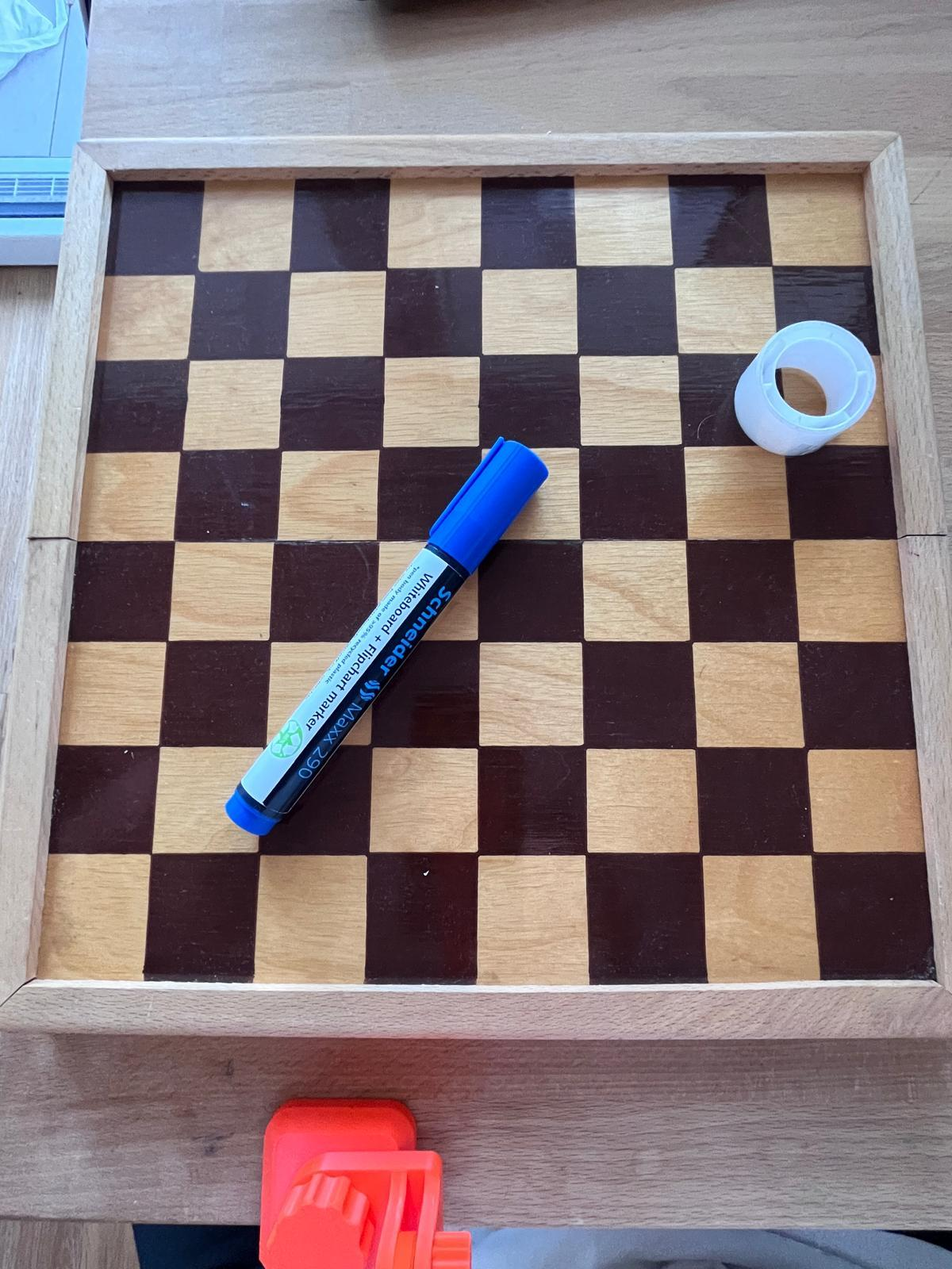marker: (225, 431, 546, 839)
tape: (722, 319, 869, 452)
